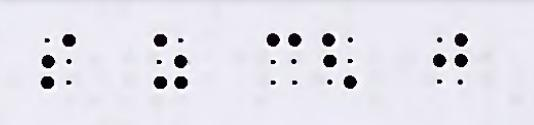hakbang: (433, 32, 468, 85)
kaniya: (266, 33, 302, 85)
ng: (322, 33, 357, 89)
sa: (153, 34, 188, 89)
sang-ayon: (40, 34, 76, 88)
